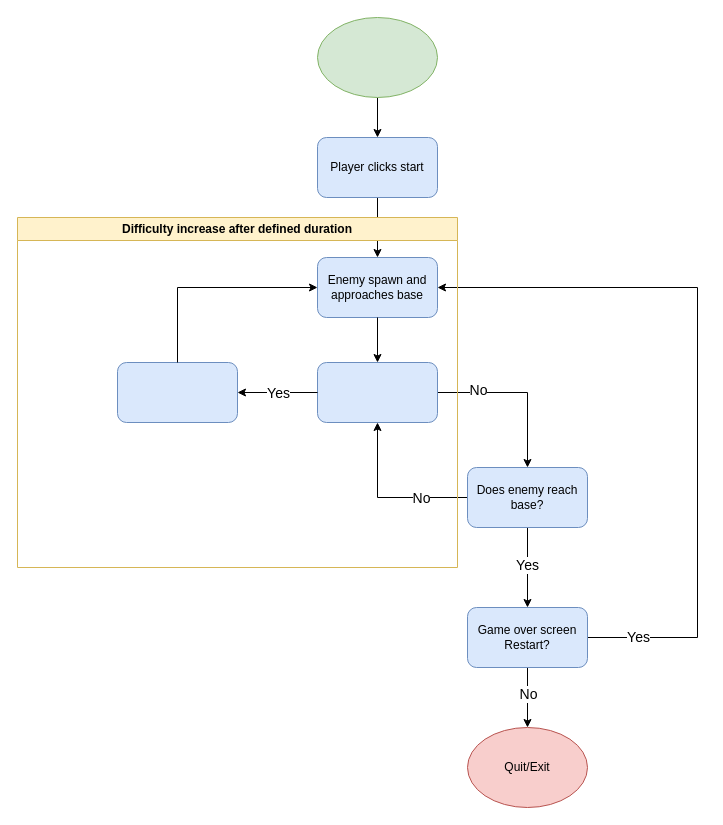
Some shapes in this 723 by 825 pixel diagram are drawn without their labels. The centre of each missing label's shape, as x and y in pixels:
Does player click enemy?: [377,392]
Enemy disappears Score increases: [177,392]
Start Menu: [377,57]
